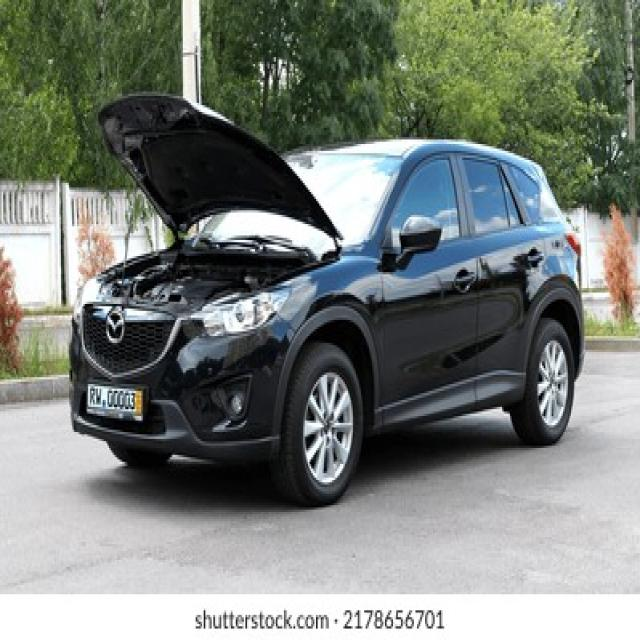mazda: (106, 308, 124, 343)
